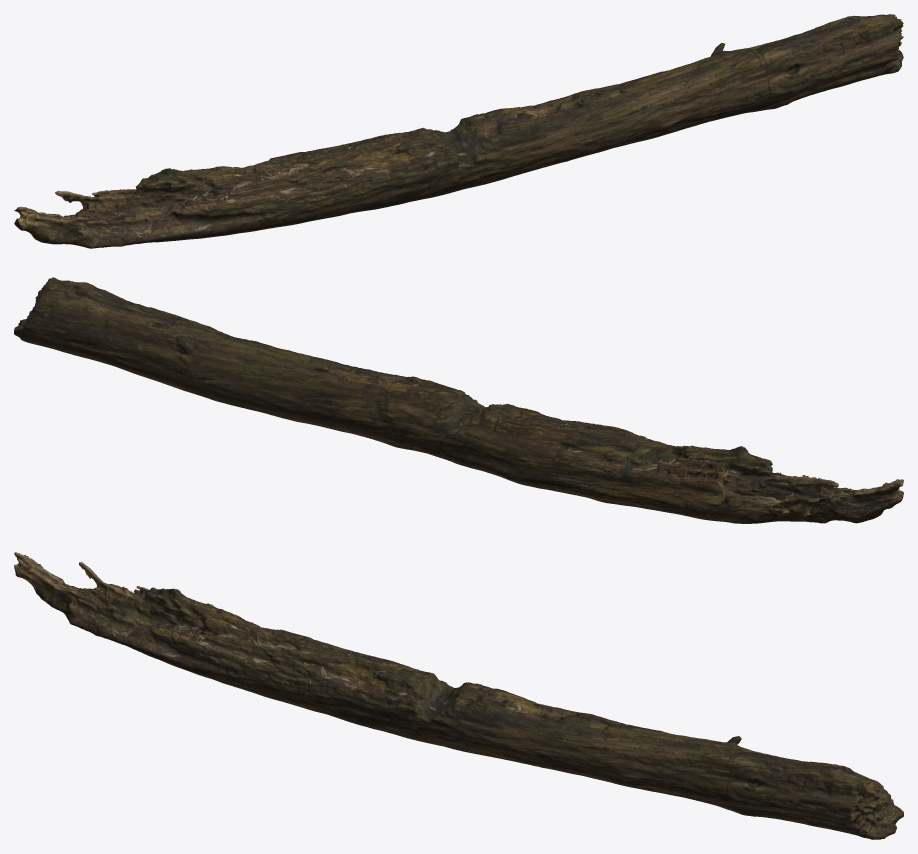
Rendered from dead_tree_trunk.gltf.
3 views of the same model, one above another, from view 1: azimuth 30°, elevation 25°; view 2: azimuth 150°, elevation 25°; view 3: azimuth 330°, elevation 25° (orthographic).
Visible parts, largest first — view 1: dead_tree_trunk; view 2: dead_tree_trunk; view 3: dead_tree_trunk.
Part boxes in pixels (bbox=[...]): dead_tree_trunk: bbox=[14, 14, 903, 248]; dead_tree_trunk: bbox=[14, 277, 903, 523]; dead_tree_trunk: bbox=[14, 552, 903, 839].
Bounding box in the file's own units: 3.05 × 0.2904 × 0.2775.
Materials: 1 (1 with a texture image).
